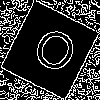O: (25, 24, 82, 84)
